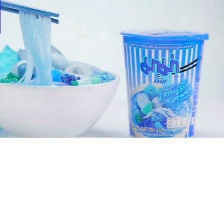paper_cup: (116, 25, 212, 137)
